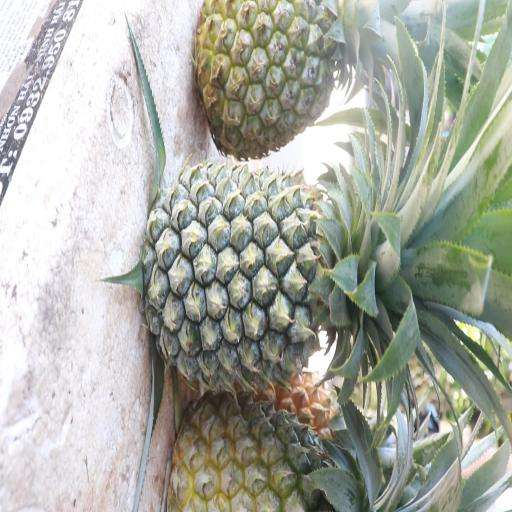------------------------------: (197, 0, 353, 150), (177, 386, 348, 512)
